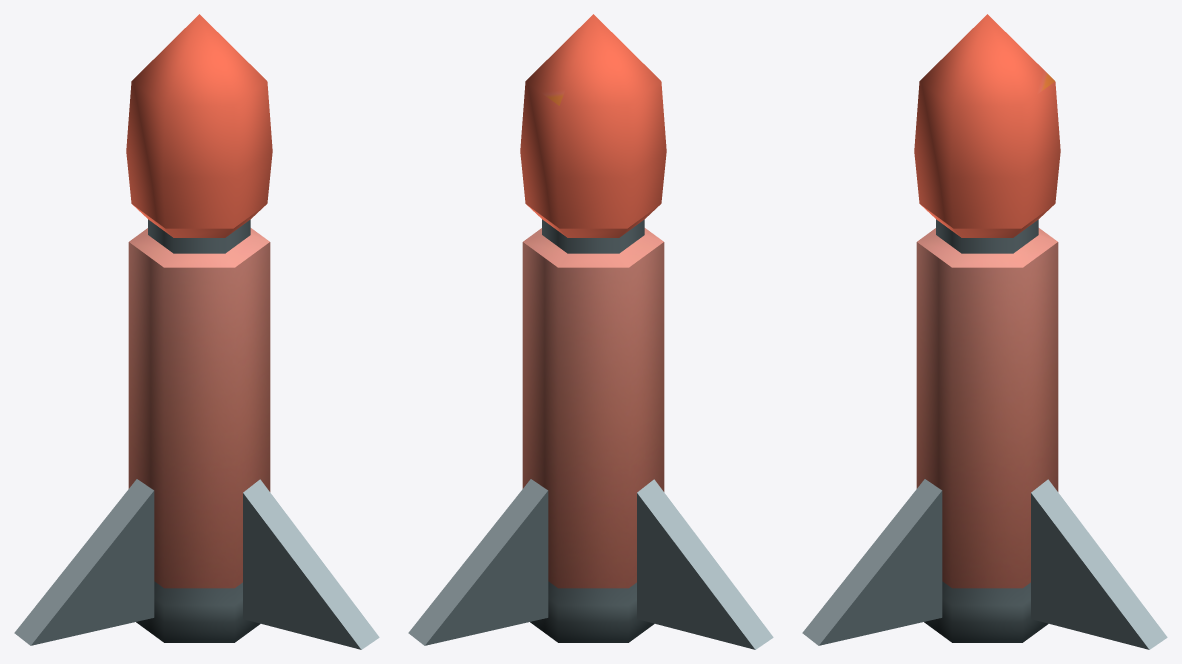
Rendered from Enemy Rocet.fbx.
The picture shows the model from 3 angles, left to right: view 1: azimuth 30°, elevation 25°; view 2: azimuth 150°, elevation 25°; view 3: azimuth 270°, elevation 25°; orthographic projection.
Parts seen in each view (by area): view 1: Cylinder; view 2: Cylinder; view 3: Cylinder.
Part boxes in pixels (left/top/right/bottom): Cylinder: left=14, top=14, right=379, bottom=649; Cylinder: left=408, top=14, right=773, bottom=649; Cylinder: left=802, top=14, right=1167, bottom=649.
Size of the model in its own units: 93.69 by 194 by 106.
